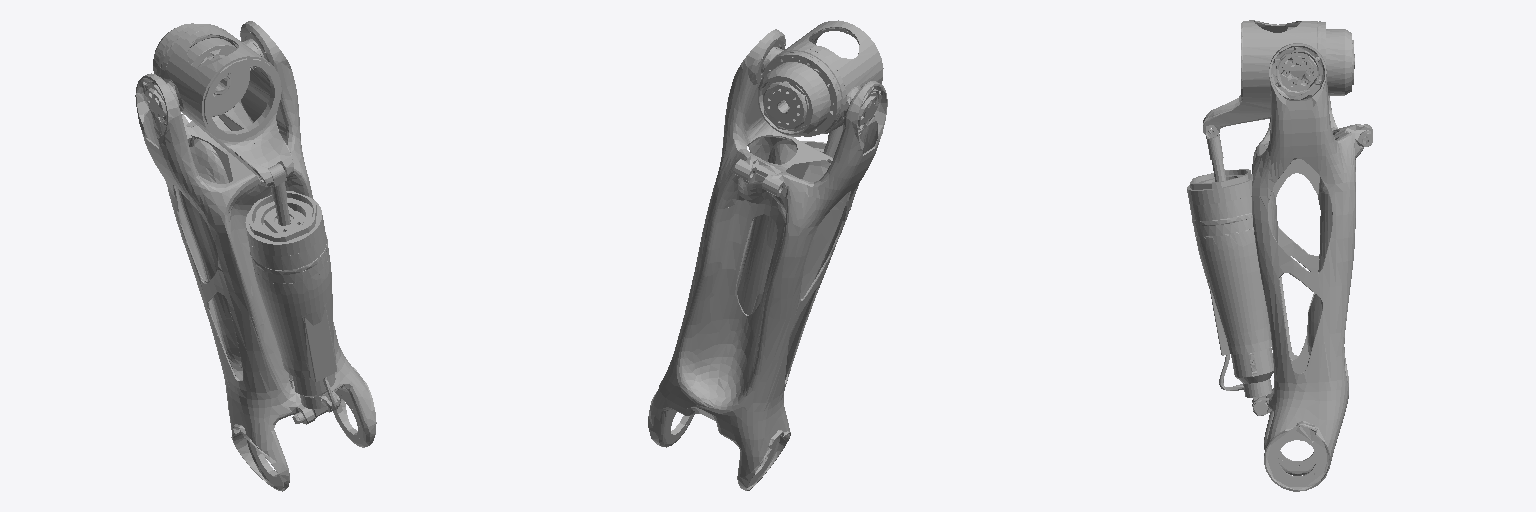
URDF robot description (LRHip3):
<robot name="LRHip3">
  <link name="LRHip2_Link">
    <inertial>
      <origin xyz="0.0013954 0.0024309 -0.0053241" rpy="0.0 0.0 0.0"/>
      <mass value="0.969"/>
      <inertia ixx="0.0017014" ixy="7.9487e-05" ixz="4.6091e-05" iyy="0.0011578" iyz="-0.0003011" izz="0.0015428"/>
    </inertial>
    <visual name="LRHip2_Link_visual">
      <origin xyz="0.0 0.0 0.0" rpy="0.0 0.0 0.0"/>
      <geometry>
        <mesh filename="../meshes/stl/LRHip2_Link.STL"/>
      </geometry>
      <material name="">
        <color rgba="0.69804 0.69804 0.69804 1.0"/>
      </material>
    </visual>
  </link>
  <joint name="LRHip3" type="revolute">
    <origin xyz="0.0 0.0 0.0" rpy="9.8608e-32 2.7756e-17 -4.9304e-32"/>
    <axis xyz="-0.96593 0.0 -0.25882"/>
    <parent link="LRHip2_Link"/>
    <child link="LRHip3_Link"/>
    <limit effort="378.0" lower="-1.16" upper="0.28" velocity="2.321"/>
  </joint>
  <joint name="LRHip3_Act1" type="prismatic">
    <origin xyz="0.2974 0.0 0.0" rpy="3.1416 -5.2385e-31 0.0"/>
    <axis xyz="1.0 0.0 0.0"/>
    <parent link="LRHip3_B11_Link"/>
    <child link="LRHip3_Act1_Link"/>
    <limit effort="0.0" lower="0" upper="0" velocity="0.0"/>
  </joint>
  <link name="LRHip3_Act1_Link">
    <inertial>
      <origin xyz="-0.16939 -0.00046849 4.4559e-05" rpy="0.0 0.0 0.0"/>
      <mass value="1.224"/>
      <inertia ixx="0.00077764" ixy="5.3759e-05" ixz="4.1291e-07" iyy="0.0059452" iyz="-2.966e-08" izz="0.0059569"/>
    </inertial>
    <visual name="LRHip3_Act1_Link_visual">
      <origin xyz="0.0 0.0 0.0" rpy="0.0 0.0 0.0"/>
      <geometry>
        <mesh filename="../meshes/stl/LLHip3_Act1_Link.STL"/>
      </geometry>
      <material name="">
        <color rgba="0.69804 0.69804 0.69804 1.0"/>
      </material>
    </visual>
    <collision name="LRHip3_Act1_Link_collision">
      <origin xyz="0.0 0.0 0.0" rpy="0.0 0.0 0.0"/>
      <geometry>
        <mesh filename="../meshes/stl/LLHip3_Act1_Link.STL"/>
      </geometry>
    </collision>
  </link>
  <joint name="LRHip3_B11" type="revolute">
    <origin xyz="0.018117 -0.09 -0.067615" rpy="-2.5686 1.2577 0.59588"/>
    <axis xyz="0.0 0.0 1.0"/>
    <parent link="LRHip2_Link"/>
    <child link="LRHip3_B11_Link"/>
    <limit effort="0.0" lower="0" upper="0" velocity="0.0"/>
  </joint>
  <link name="LRHip3_B11_Link">
    <inertial>
      <origin xyz="0.10645 -2.4289e-13 1.9568e-15" rpy="0.0 0.0 0.0"/>
      <mass value="0.16503"/>
      <inertia ixx="3.4113e-06" ixy="3.8263e-12" ixz="-7.0537e-16" iyy="0.00081967" iyz="-1.7661e-15" izz="0.00081963"/>
    </inertial>
    <visual name="LRHip3_B11_Link_visual">
      <origin xyz="0.0 0.0 0.0" rpy="0.0 0.0 0.0"/>
      <geometry>
        <mesh filename="../meshes/stl/Hip3_B11_Link.STL"/>
      </geometry>
      <material name="">
        <color rgba="0.69804 0.69804 0.69804 1.0"/>
      </material>
    </visual>
    <collision name="LRHip3_B11_Link_collision">
      <origin xyz="0.0 0.0 0.0" rpy="0.0 0.0 0.0"/>
      <geometry>
        <mesh filename="../meshes/stl/Hip3_B11_Link.STL"/>
      </geometry>
    </collision>
  </link>
  <link name="LRHip3_Link">
    <inertial>
      <origin xyz="0.051263 0.0072511 -0.19232" rpy="0.0 0.0 0.0"/>
      <mass value="1.0487"/>
      <inertia ixx="0.020383" ixy="3.4682e-05" ixz="0.0047264" iyy="0.022629" iyz="-0.00014075" izz="0.0042174"/>
    </inertial>
    <visual name="LRHip3_Link_visual">
      <origin xyz="0.0 0.0 0.0" rpy="0.0 0.0 0.0"/>
      <geometry>
        <mesh filename="../meshes/stl/Hip3_Link.STL"/>
      </geometry>
      <material name="">
        <color rgba="0.69804 0.69804 0.69804 1.0"/>
      </material>
    </visual>
    <collision name="LRHip3_Link_collision">
      <origin xyz="0.0 0.0 0.0" rpy="0.0 0.0 0.0"/>
      <geometry>
        <mesh filename="../meshes/stl/Hip3_Link.STL"/>
      </geometry>
    </collision>
  </link>
</robot>

--- What the picture shows (computed from the rendered views, not written in the file) ---
Views: 3 orthographic renders of the robot side by side, from view 1: azimuth 30°, elevation 25°; view 2: azimuth 150°, elevation 25°; view 3: azimuth 270°, elevation 25°.
Model LRHip3 with 4 links and 3 joints (2 revolute, 1 prismatic), rooted at LRHip2_Link, posed all joints at 0.
Links seen in each view (by area): view 1: LRHip3_Link, LRHip3_Act1_Link, LRHip2_Link, LRHip3_B11_Link; view 2: LRHip3_Link, LRHip2_Link; view 3: LRHip3_Link, LRHip3_Act1_Link, LRHip2_Link, LRHip3_B11_Link.
Link boxes in pixels (bbox=[...]): LRHip3_Link: bbox=[135, 21, 376, 491]; LRHip3_Act1_Link: bbox=[245, 191, 336, 417]; LRHip2_Link: bbox=[153, 23, 293, 186]; LRHip3_B11_Link: bbox=[268, 163, 290, 225]; LRHip3_Link: bbox=[648, 29, 887, 490]; LRHip2_Link: bbox=[758, 20, 883, 136]; LRHip3_Link: bbox=[1251, 43, 1372, 491]; LRHip3_Act1_Link: bbox=[1187, 169, 1273, 402]; LRHip2_Link: bbox=[1203, 20, 1354, 137]; LRHip3_B11_Link: bbox=[1206, 129, 1225, 181].
Bounding box of the posed robot: 0.2298 × 0.1945 × 0.4874 m (x, y, z).
Meshes: 4 distinct files referenced, 4 mesh visuals loaded (4 binary STL).
